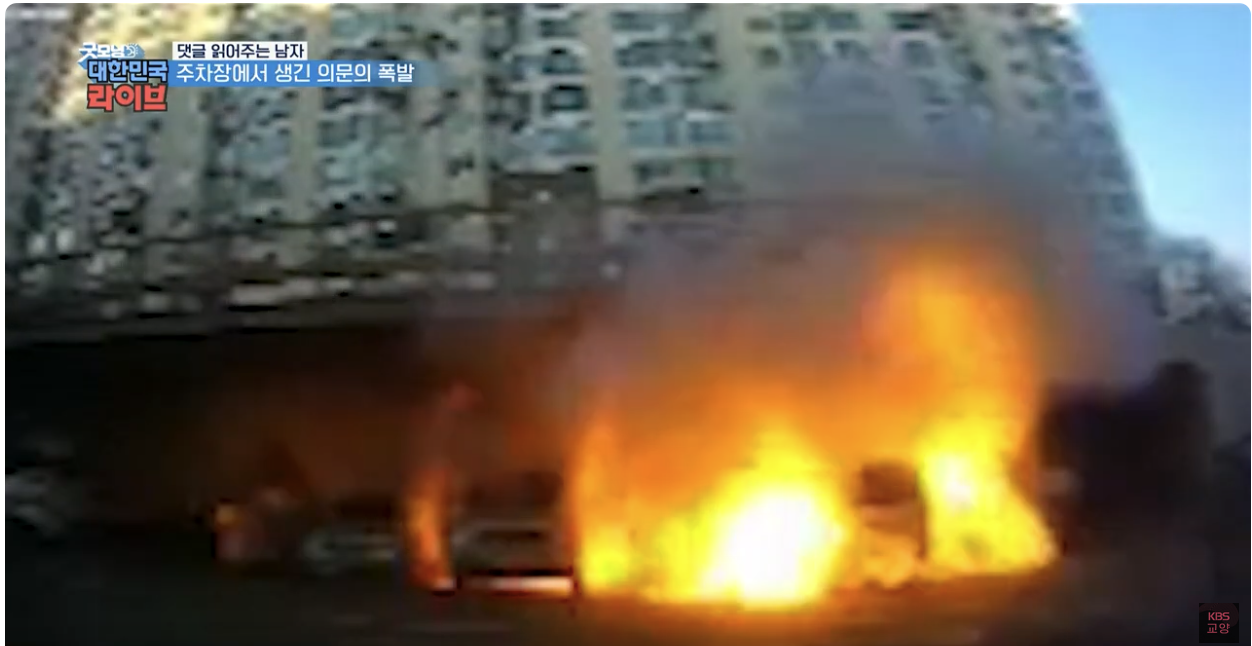fire: (552, 323, 876, 608), (884, 265, 1082, 590)
